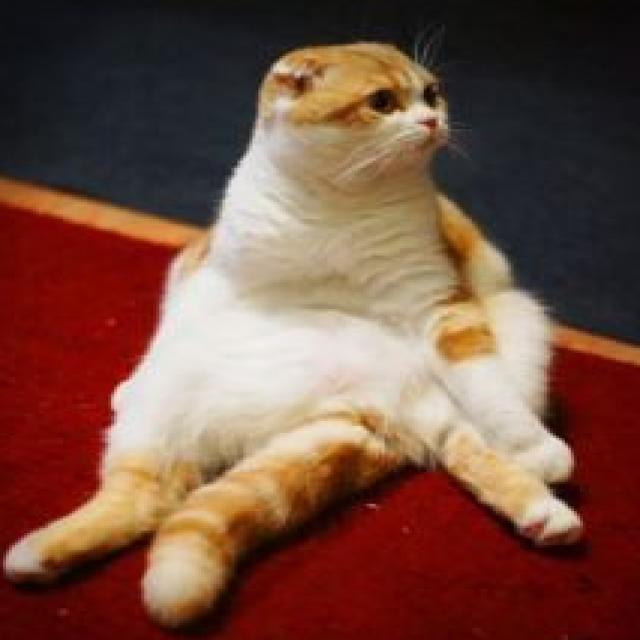Scottish Fold: (0, 29, 592, 630)
